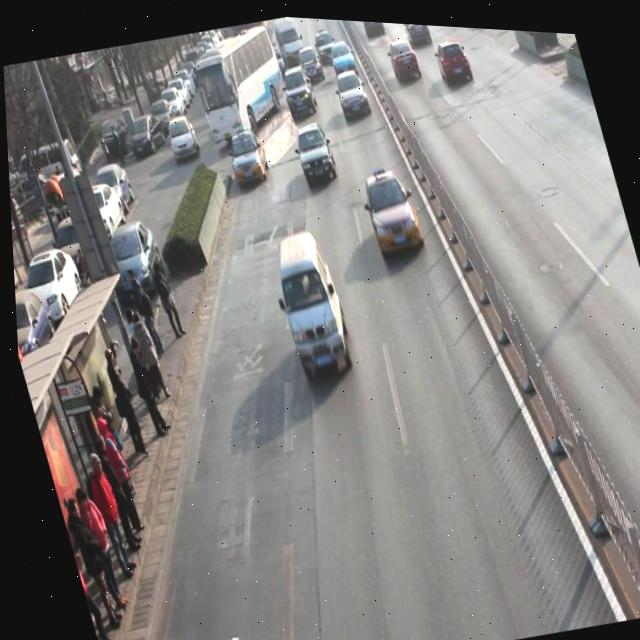car: (356, 159, 426, 256), (290, 116, 339, 185), (222, 123, 272, 186), (278, 59, 321, 118), (332, 62, 373, 118), (433, 31, 475, 83), (386, 30, 423, 80), (326, 32, 362, 82), (293, 39, 329, 86), (401, 19, 434, 46)
truck: (263, 223, 358, 384)
van: (186, 22, 298, 148)
